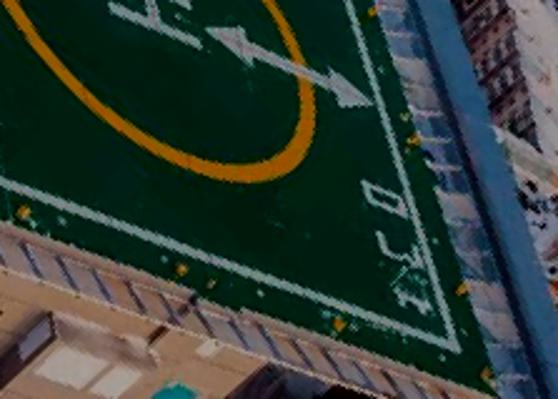Apron: (2, 1, 323, 193)
